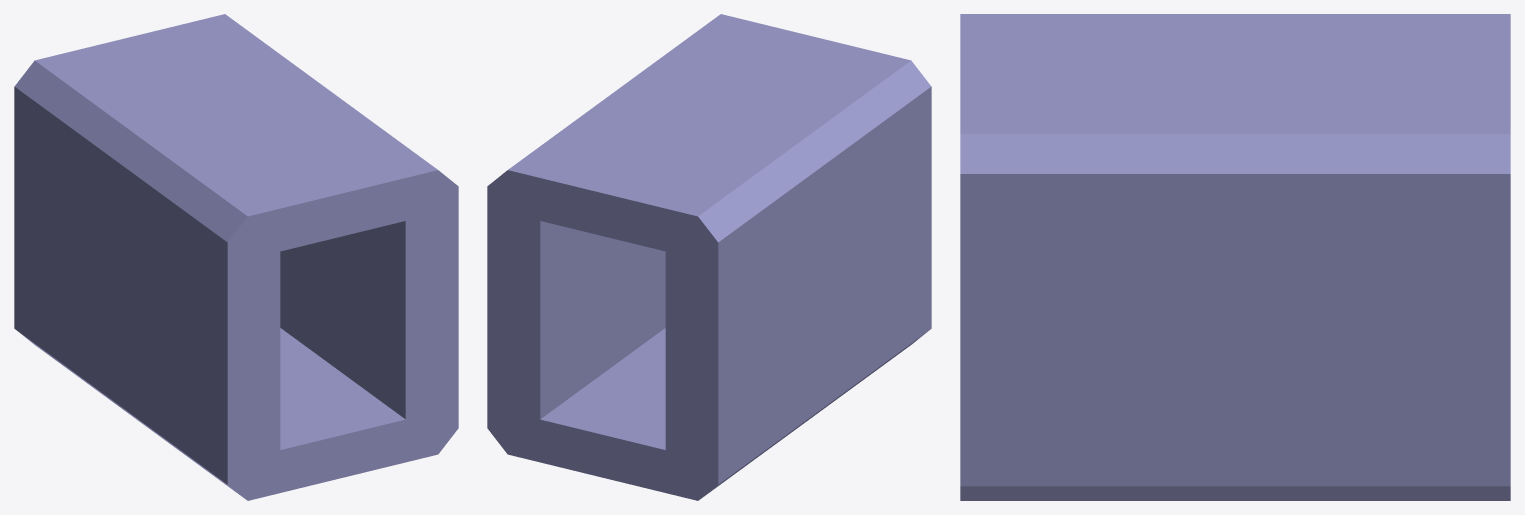
Rendered from FlashMagnetHalf.gltf.
3 renders of one model, left to right at view 1: azimuth 30°, elevation 25°; view 2: azimuth 150°, elevation 25°; view 3: azimuth 270°, elevation 25°, orthographic. The views are drawn at different scales.
Visible parts, largest first — view 1: logicFlashMagnetHalf_pv0x221c390, logicFlashMagnetHalf_pv0x221c5c0; view 2: logicFlashMagnetHalf_pv0x221c390, logicFlashMagnetHalf_pv0x221c5c0; view 3: logicFlashMagnetHalf_pv0x221c5c0, logicFlashMagnetHalf_pv0x221c390.
Part boxes in pixels (x1,y1,x2,y2): logicFlashMagnetHalf_pv0x221c390: [14, 37, 342, 500]; logicFlashMagnetHalf_pv0x221c5c0: [130, 14, 458, 477]; logicFlashMagnetHalf_pv0x221c390: [603, 37, 931, 500]; logicFlashMagnetHalf_pv0x221c5c0: [487, 14, 815, 477]; logicFlashMagnetHalf_pv0x221c5c0: [960, 74, 1510, 500]; logicFlashMagnetHalf_pv0x221c390: [960, 14, 1510, 73].
Size of the model in its own units: 57.15 by 67.31 by 91.44.
